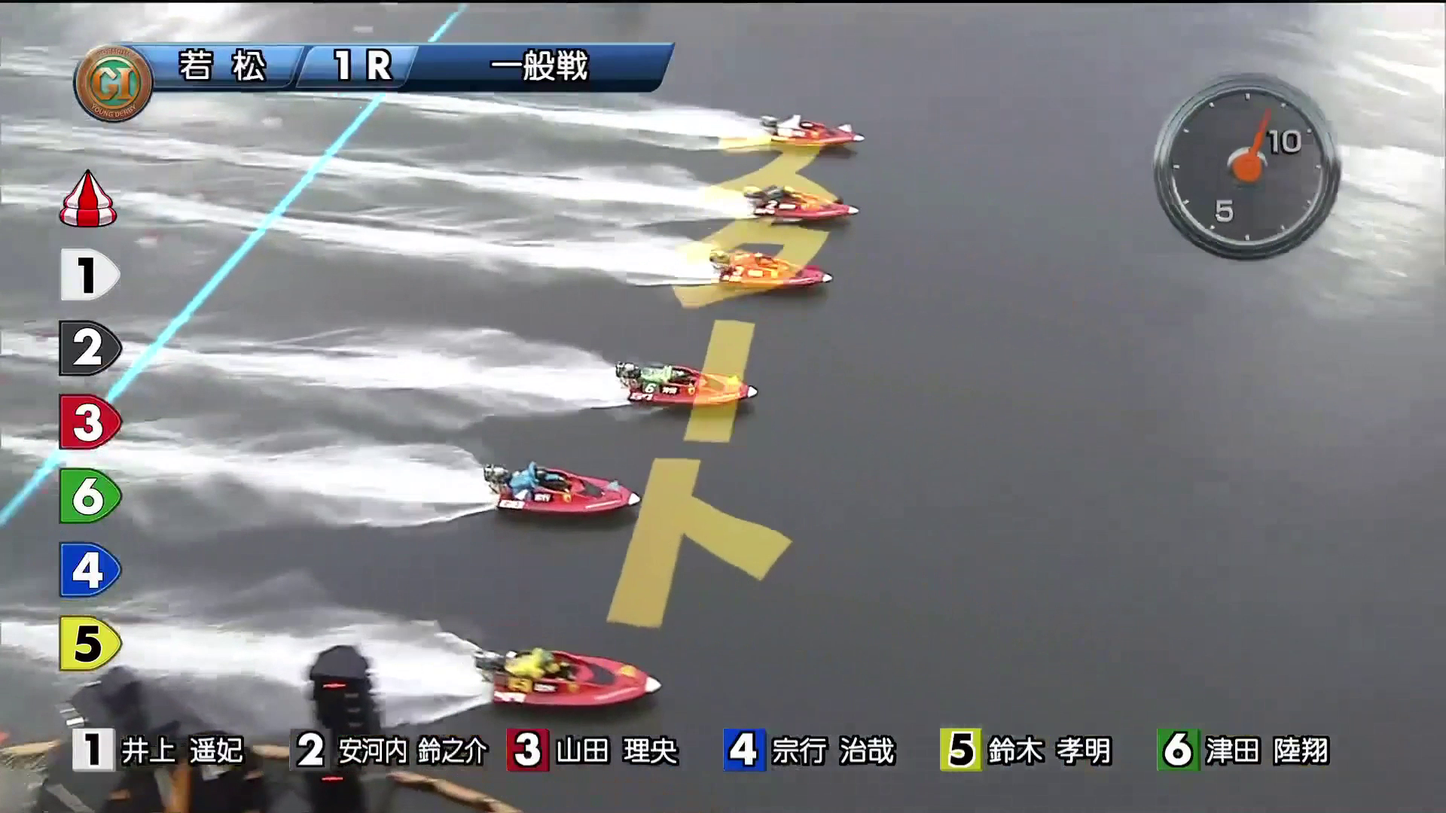１号艇: (766, 112, 850, 159)
２号艇: (755, 189, 858, 226)
３号艇: (714, 254, 839, 295)
４号艇: (646, 360, 751, 403)
５号艇: (507, 458, 628, 513)
６号艇: (489, 653, 647, 710)
